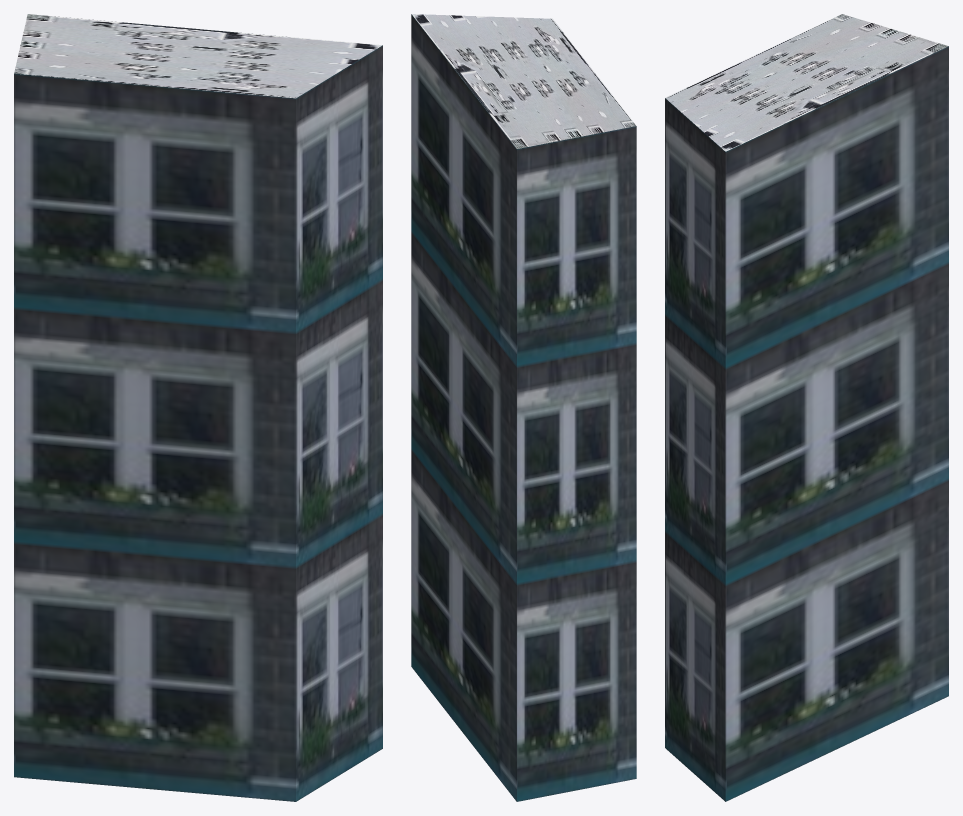
File: ResTex__4964.fbx
3 views of the same model, side by side, from view 1: azimuth 30°, elevation 25°; view 2: azimuth 150°, elevation 25°; view 3: azimuth 270°, elevation 25° (orthographic). The views are drawn at different scales.
Parts seen in each view (by area): view 1: CityEngineMaterial_11_m, CityEngineMaterial_8_m; view 2: CityEngineMaterial_11_m, CityEngineMaterial_8_m; view 3: CityEngineMaterial_11_m, CityEngineMaterial_8_m.
Part boxes in pixels (x1,y1,x2,y2): CityEngineMaterial_11_m: (14,45,382,801); CityEngineMaterial_8_m: (14,14,382,98); CityEngineMaterial_11_m: (411,14,636,801); CityEngineMaterial_8_m: (411,14,635,148); CityEngineMaterial_11_m: (665,46,948,801); CityEngineMaterial_8_m: (665,14,948,151).
Size of the model in its own units: 4.09 by 9 by 3.56.
Materials: 2 (2 with a texture image).
